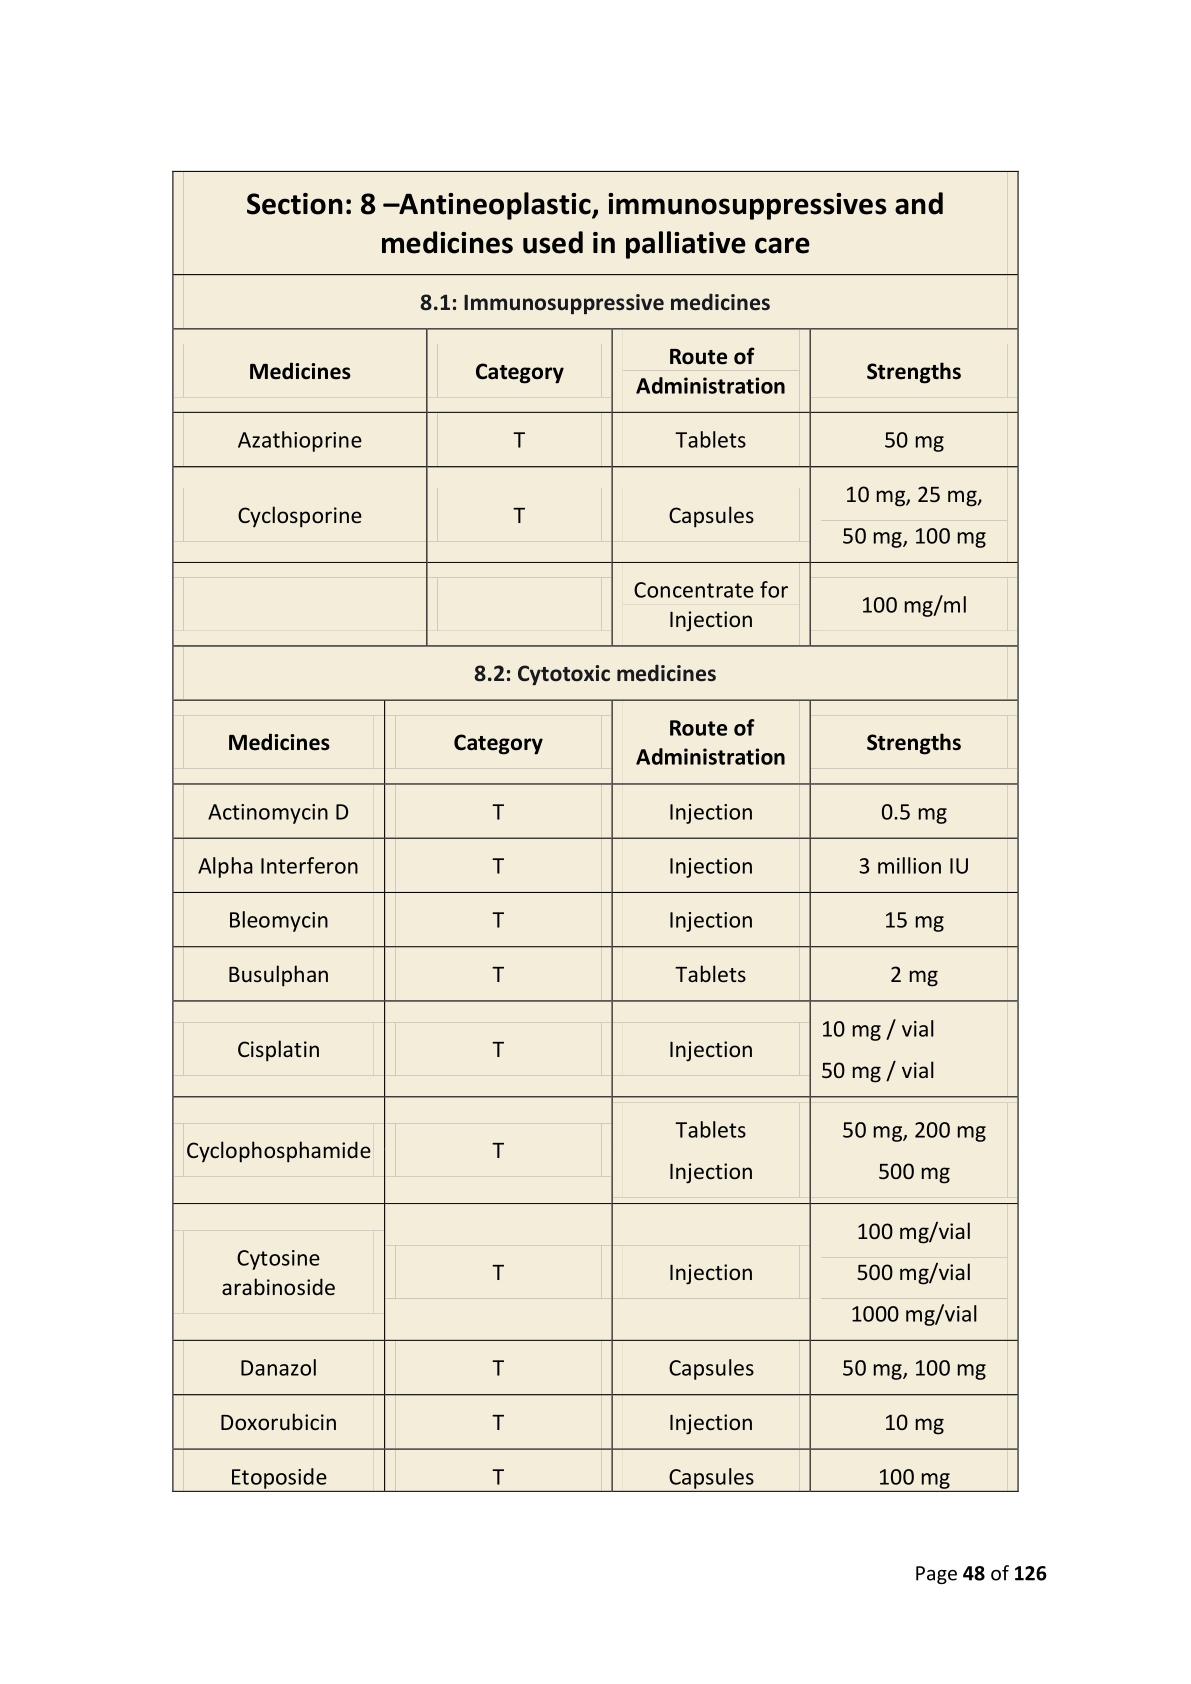merged_cells: (169, 167, 1020, 1492)
